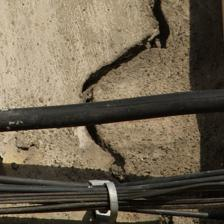Crack: (32, 101, 179, 150), (24, 44, 66, 136)
